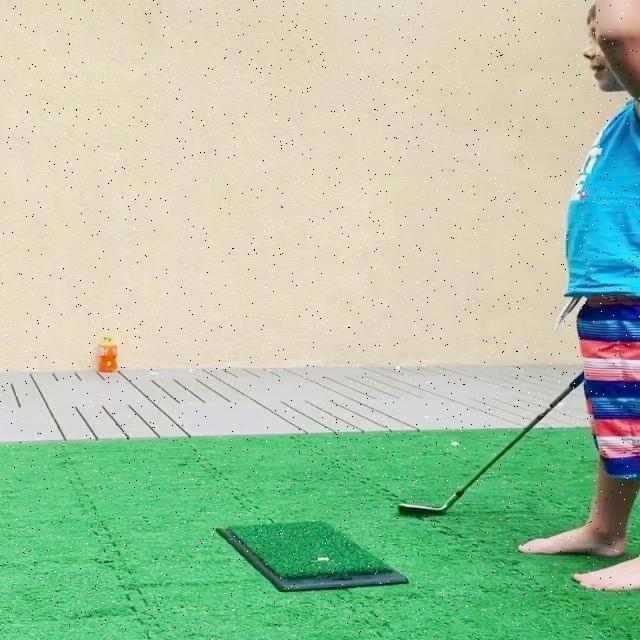golf club-handle: (394, 370, 588, 521)
golf club-head: (396, 503, 445, 517)
